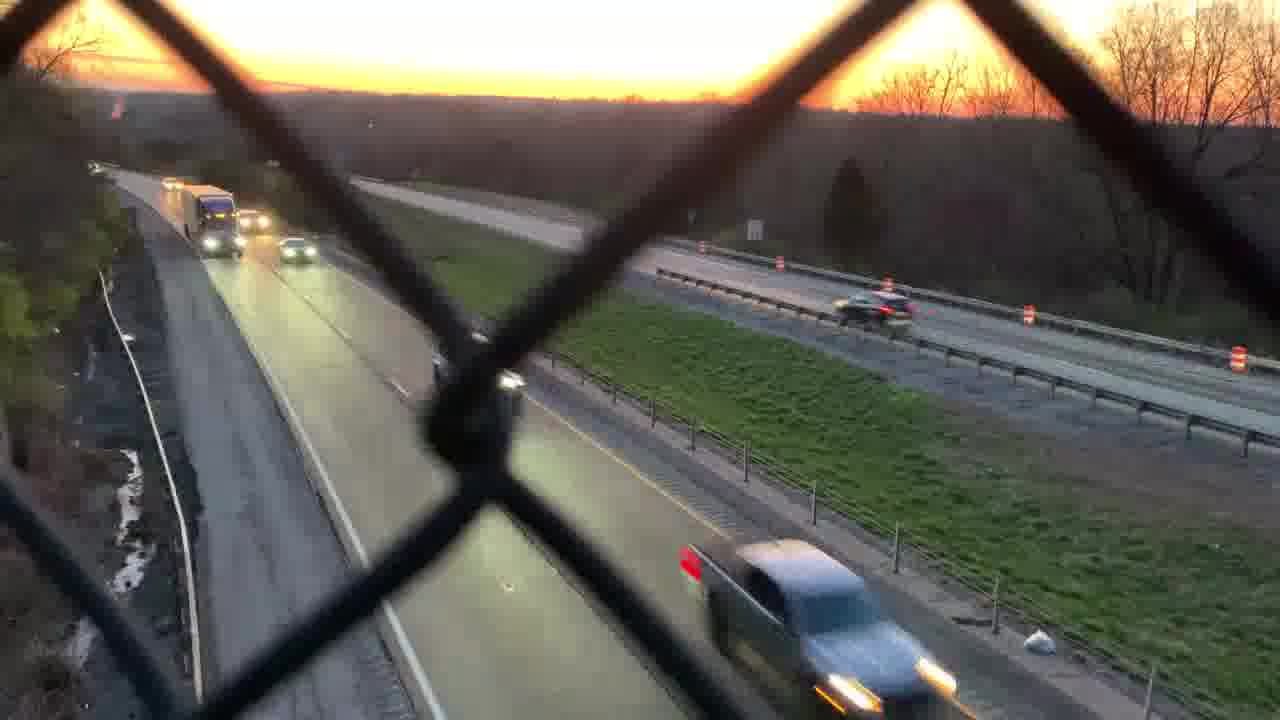heavyTruck: (176, 180, 247, 262)
largeCar: (832, 292, 917, 333)
lightTruck: (669, 533, 962, 720)
smallCar: (274, 238, 329, 262)
